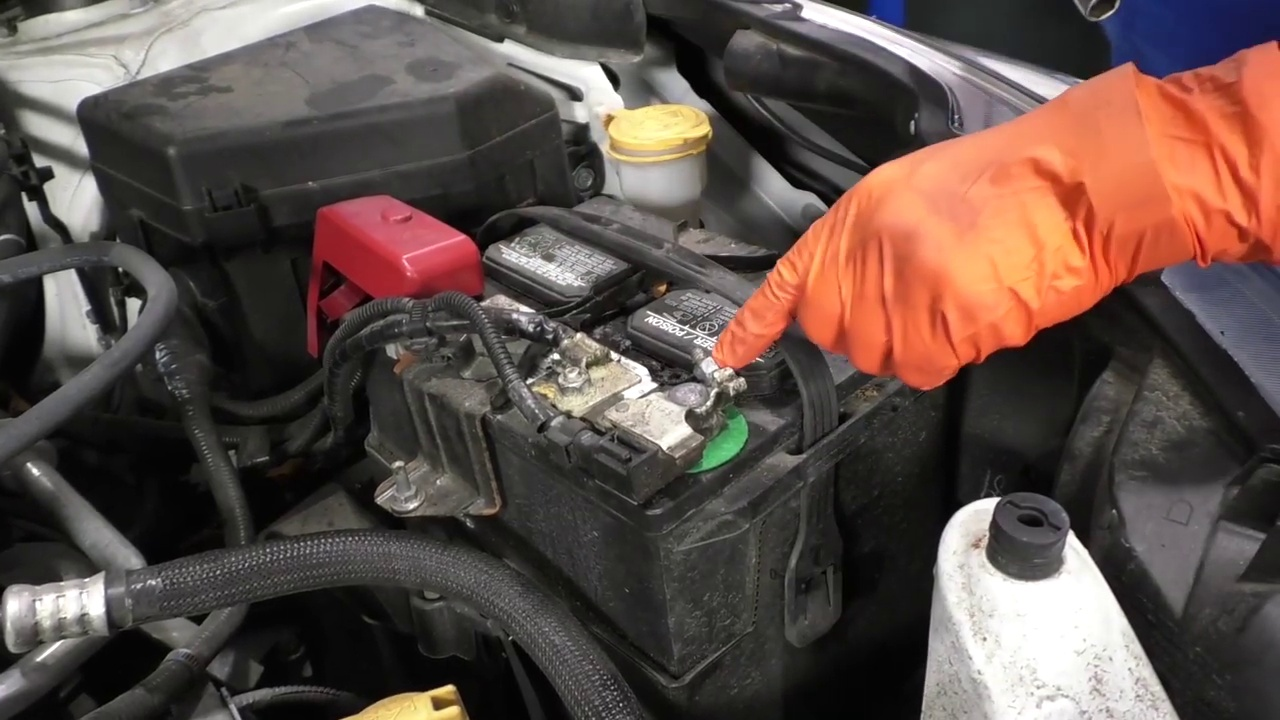battery: (314, 193, 963, 489)
neg_connected: (613, 322, 760, 491)
neg_touched: (625, 270, 914, 471)
pos_connected: (316, 190, 482, 378)
